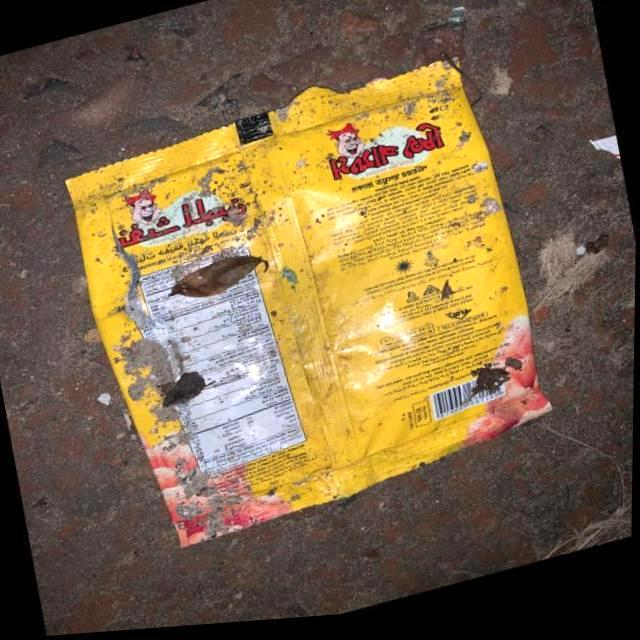packet: (72, 62, 566, 556)
